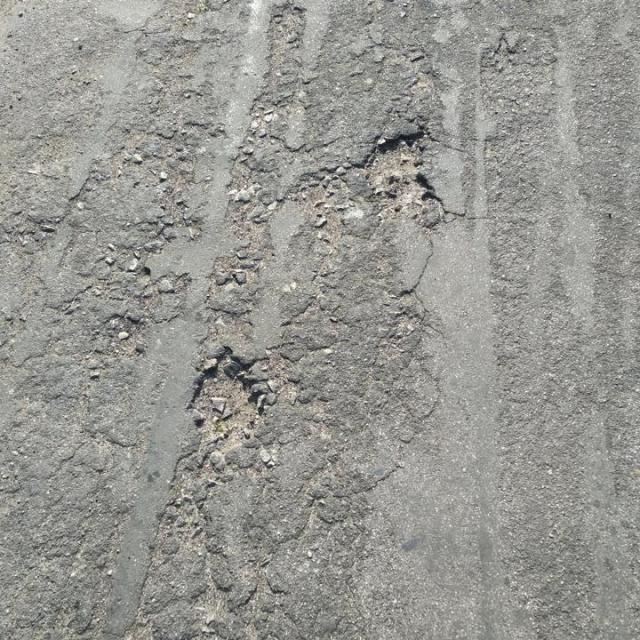Pothole: (294, 123, 444, 243), (192, 334, 271, 476)
